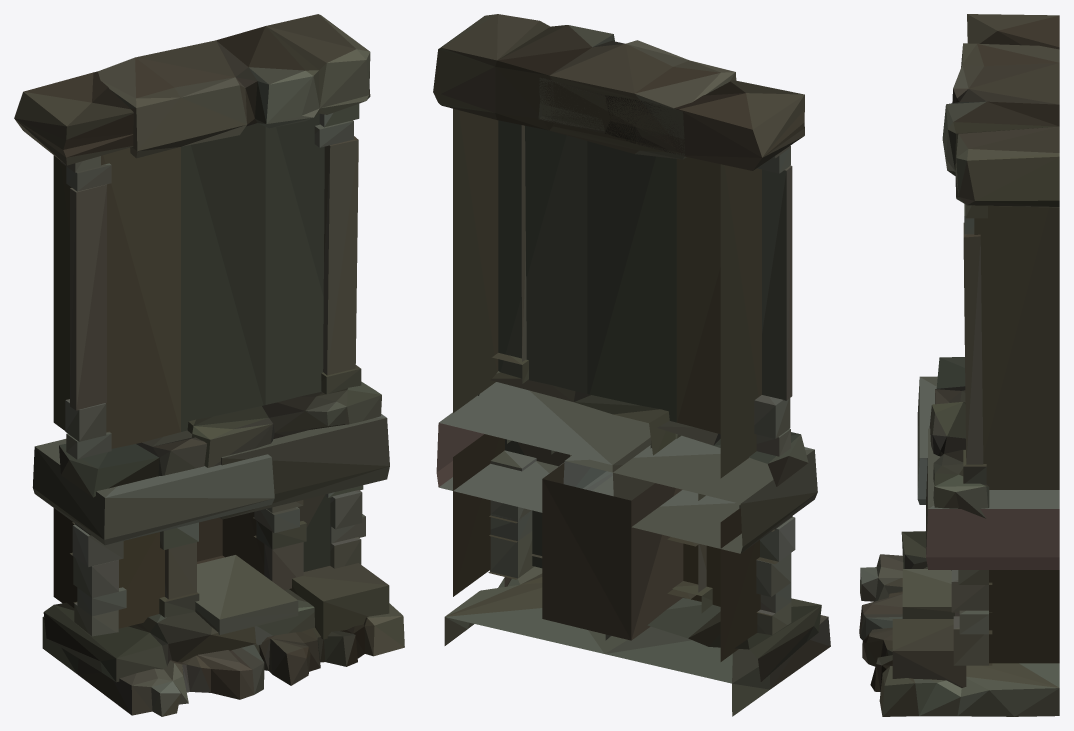
Rendered from wall_B_3m.fbx.
3 renders of one model, left to right at view 1: azimuth 30°, elevation 25°; view 2: azimuth 150°, elevation 25°; view 3: azimuth 270°, elevation 25°, orthographic. The views are drawn at different scales.
Parts seen in each view (by area): view 1: wall_B_3m; view 2: wall_B_3m; view 3: wall_B_3m.
Boxes of the visible parts, <box> form: wall_B_3m: <box>14,14,404,716</box>; wall_B_3m: <box>433,14,830,716</box>; wall_B_3m: <box>859,14,1059,716</box>.
Bounding box in the file's own units: 3.7 × 6.44 × 2.06.
